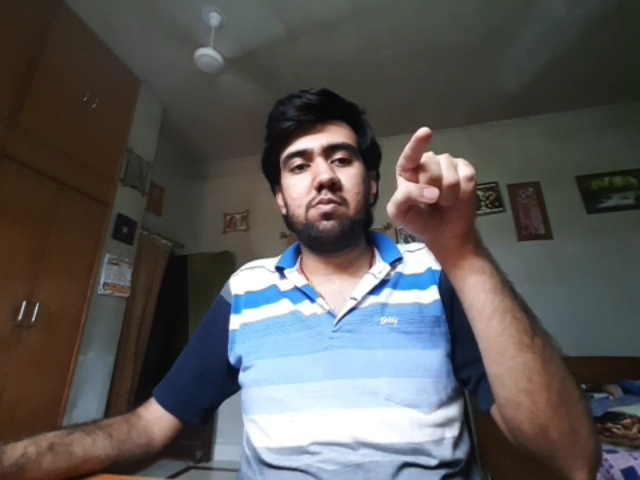You: (386, 125, 477, 235)
